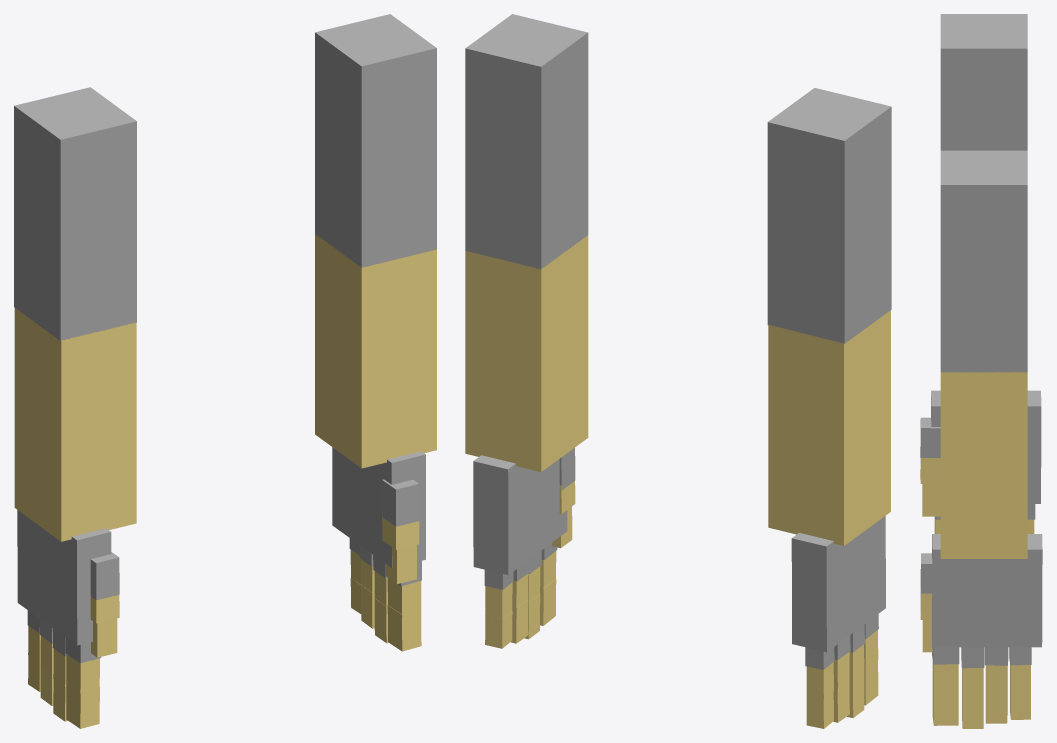
File: C_Hands.gltf
The picture shows the model from 3 angles, left to right: view 1: azimuth 30°, elevation 25°; view 2: azimuth 150°, elevation 25°; view 3: azimuth 270°, elevation 25°; orthographic projection. The views are drawn at different scales.
Parts seen in each view (by area): view 1: Cube 119 (×2), Cube 126 (×2), cube (×2), cube 19 (×4), cube 25 (×2), cube 21 (×2), cube 20 (×2); view 2: Cube 119 (×2), Cube 126 (×2), cube (×2), cube 26 (×2), cube 23 (×2); view 3: Cube 119 (×2), Cube 126, cube (×2), cube 19 (×4), cube 20 (×2), cube 25, cube 21, cube 27, cube 28, cube 22, cube 24, cube 26 (+5 smaller).
Boxes of the visible parts, x1,y1,x2,y2 form: Cube 119 (×2): (14,14,436,340); Cube 126 (×2): (14,234,436,541); cube (×2): (17,447,425,645); cube 19 (×4): (90,479,419,623); cube 25 (×2): (66,605,421,728); cube 21 (×2): (66,577,421,693); cube 20 (×2): (91,545,416,657); Cube 119 (×2): (465,14,891,343); Cube 126 (×2): (465,235,890,545); cube (×2): (473,455,885,652); cube 26 (×2): (485,611,833,728); cube 23 (×2): (485,582,833,699); Cube 119 (×2): (940,14,1027,372); Cube 126: (940,371,1027,558); cube (×2): (931,390,1042,647); cube 19 (×4): (920,417,940,619); cube 20 (×2): (922,484,940,652); cube 25: (932,685,958,725); cube 21: (932,661,958,692); cube 27: (985,684,1007,723); cube 28: (962,689,983,728); cube 22: (962,668,983,696); cube 24: (985,665,1007,691); cube 26: (1010,686,1030,719).
Bounding box in the file's own units: 3.17 × 4.78 × 0.9569.
